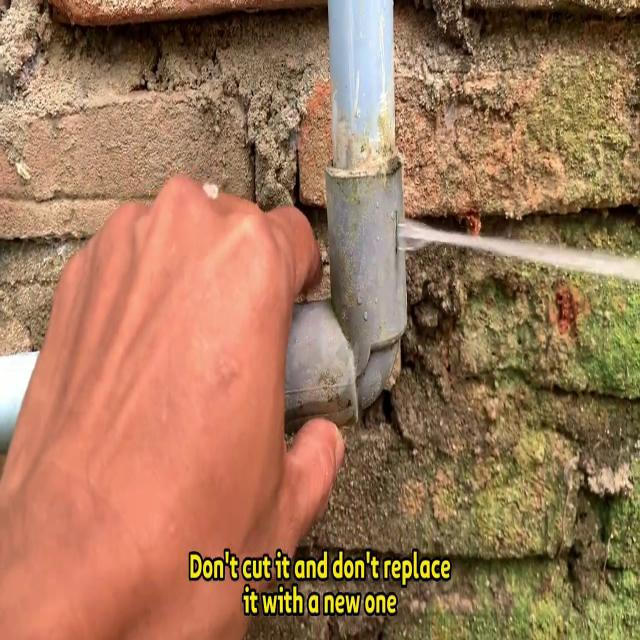leak: (395, 215, 640, 282)
